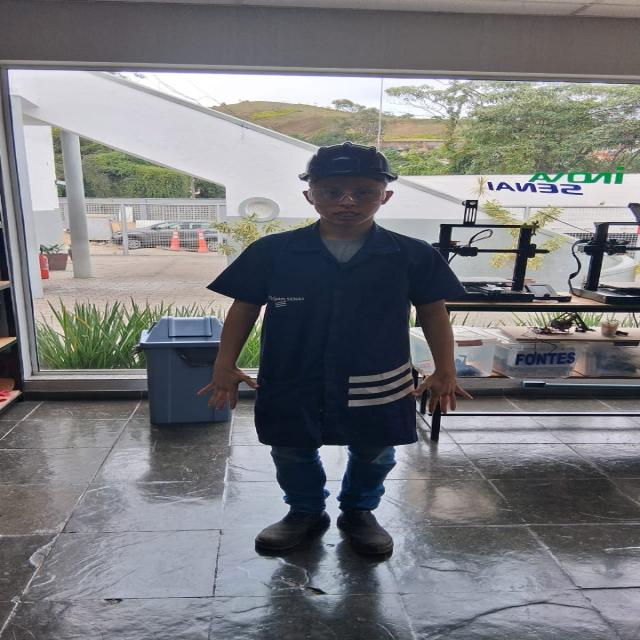BOTA: (243, 505, 336, 552), (333, 506, 399, 559)
CAPACETE: (295, 140, 403, 186)
JALECO: (204, 215, 471, 449)
OCULOS: (302, 188, 390, 208)
SEM LUVA: (192, 364, 260, 410), (414, 370, 478, 416)
